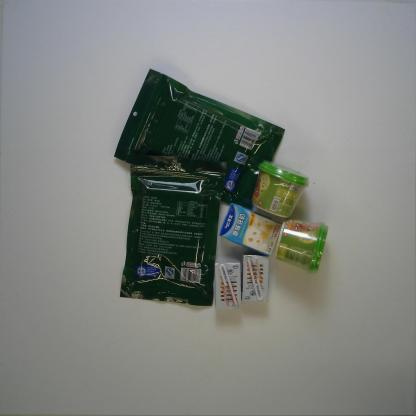Dried Food: (113, 69, 288, 211), (119, 154, 227, 308)
Instant Drink: (251, 159, 310, 219), (274, 218, 330, 277)
Milk: (219, 202, 283, 257), (240, 254, 270, 303), (214, 259, 242, 311)
